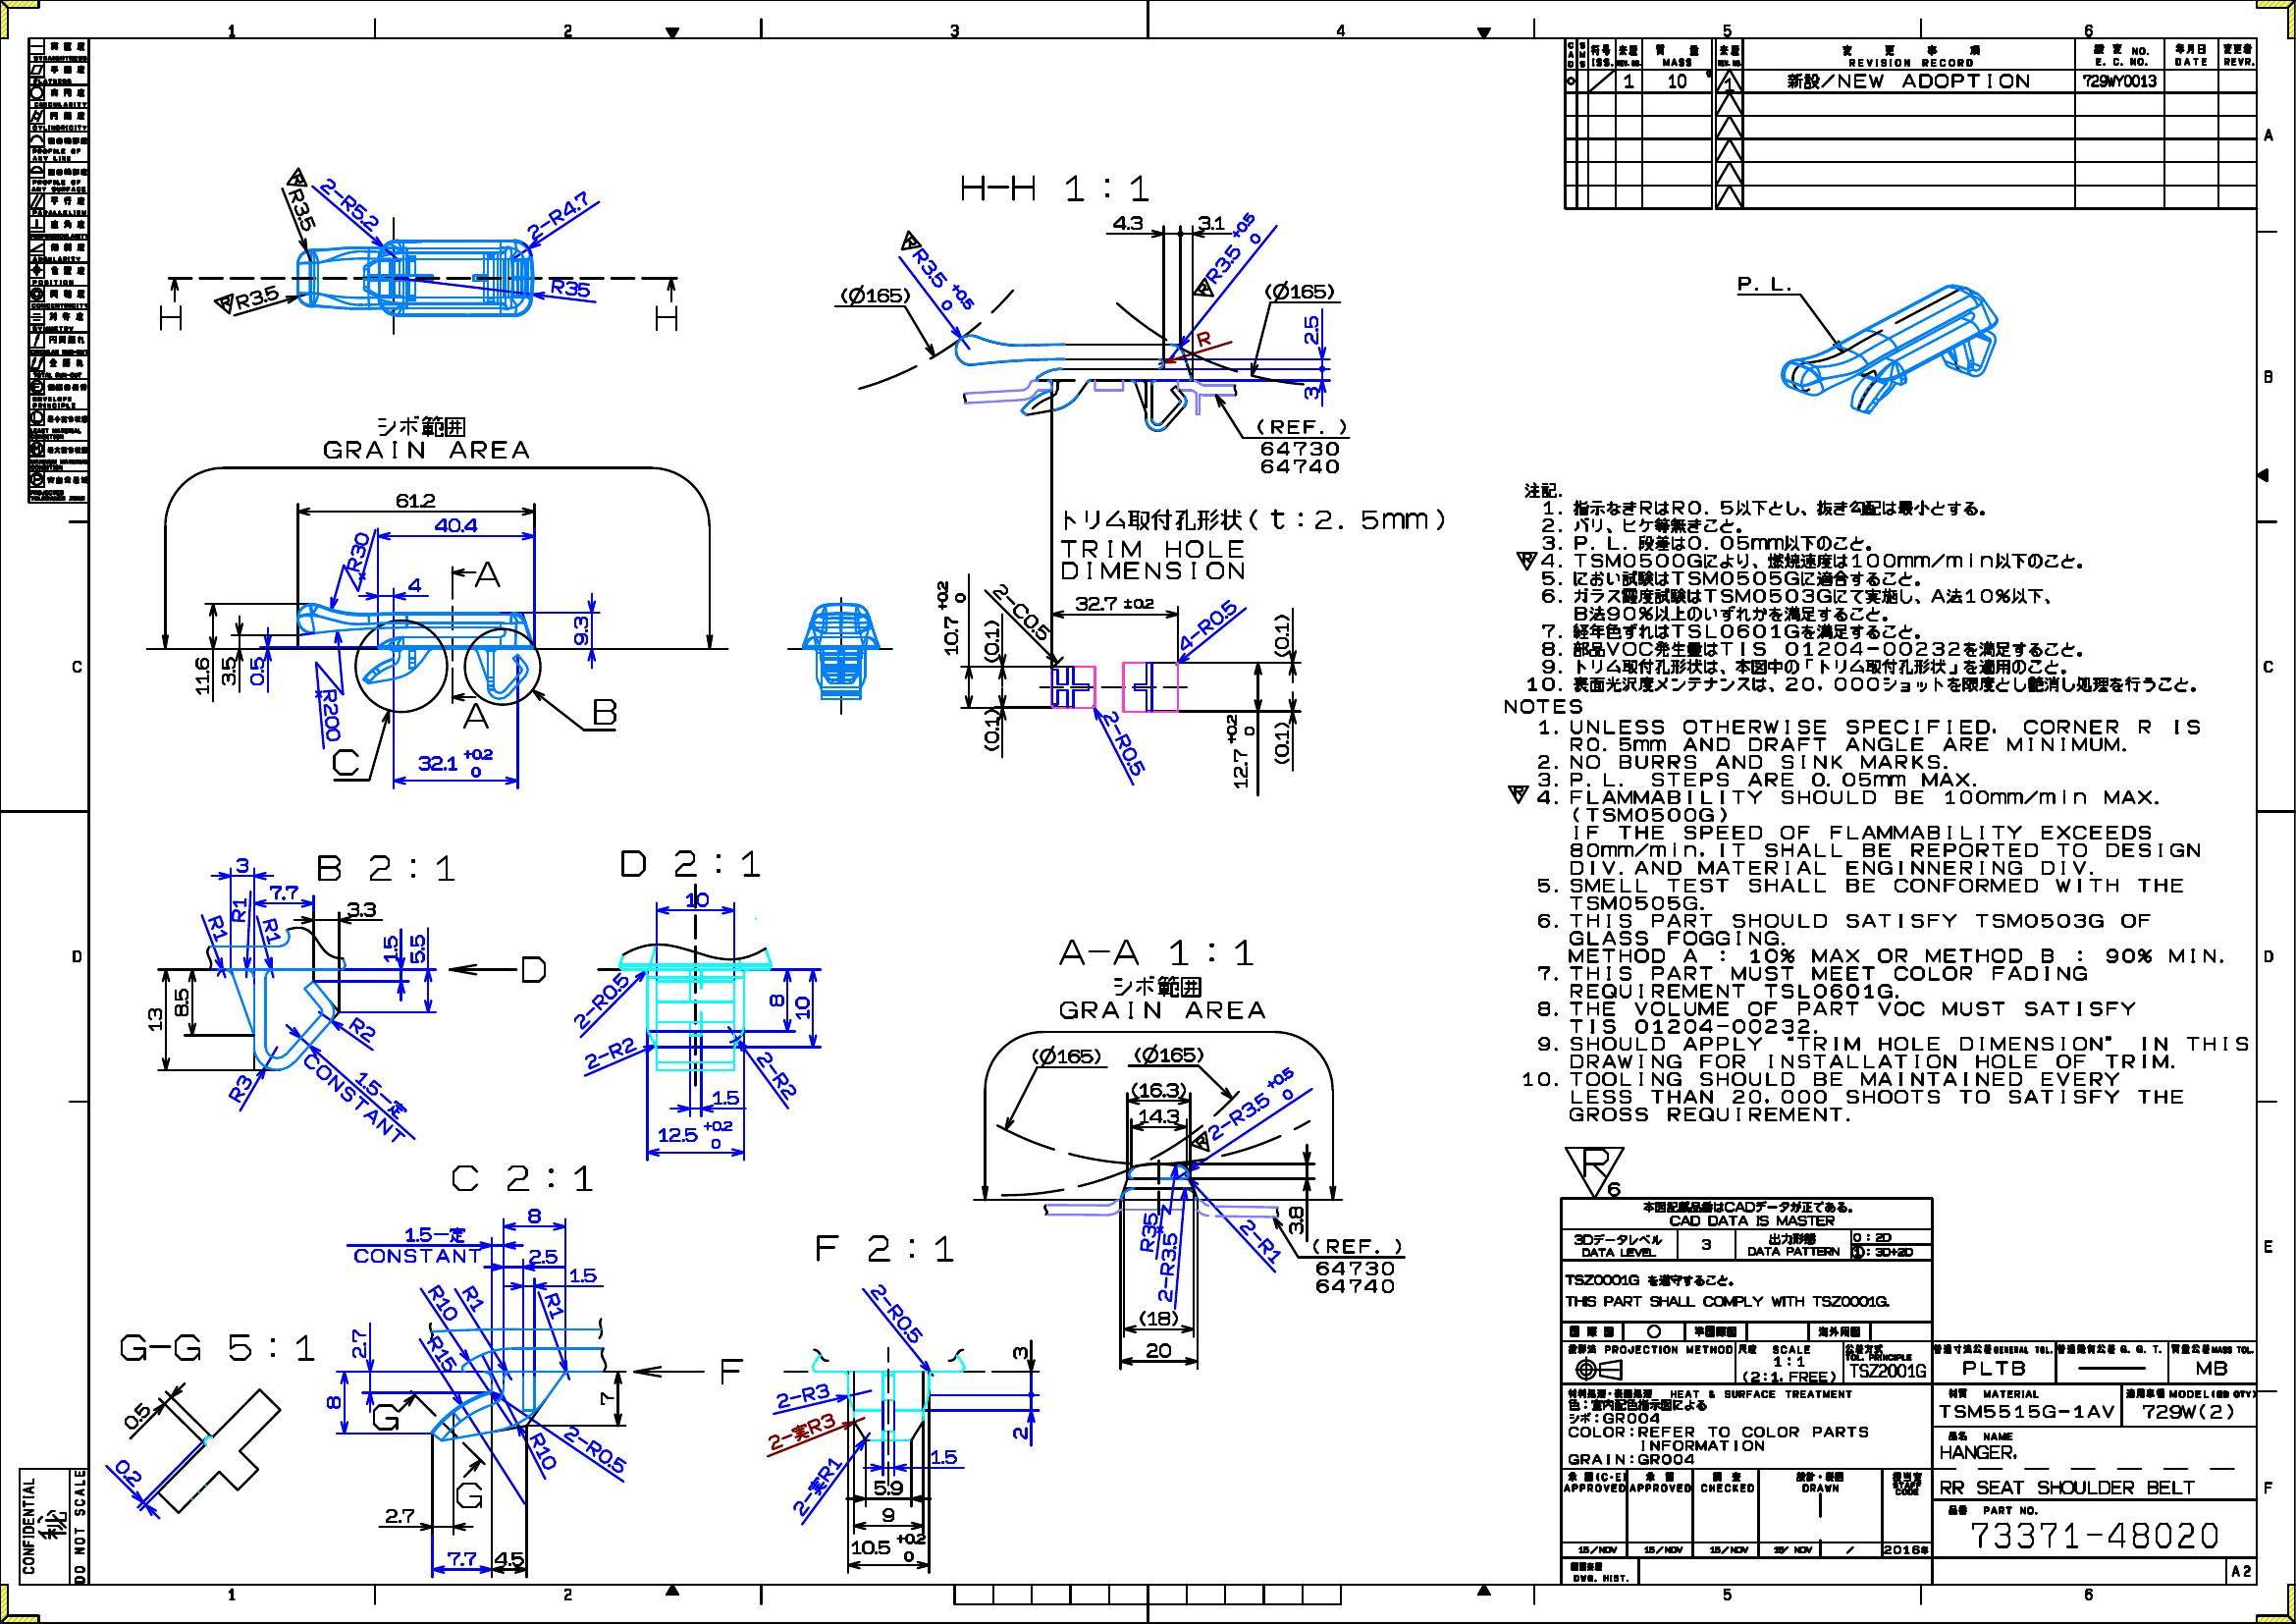anntotation_text: (1504, 480, 2249, 1123), (1059, 506, 1446, 582), (1058, 939, 1267, 1019), (321, 415, 531, 459), (119, 1334, 314, 1362), (961, 174, 1149, 202), (1256, 417, 1346, 475), (316, 852, 455, 882), (620, 849, 761, 877), (815, 1234, 954, 1262), (451, 1165, 594, 1192), (1563, 1146, 1625, 1197), (1314, 1260, 1393, 1294), (290, 1091, 416, 1107), (353, 1248, 481, 1262), (1312, 1237, 1400, 1253), (1737, 274, 1790, 292), (462, 701, 488, 729), (372, 1403, 399, 1431), (474, 561, 501, 587), (332, 749, 358, 775), (455, 1482, 481, 1508), (522, 956, 546, 982), (720, 1359, 745, 1385), (655, 304, 678, 330), (594, 698, 617, 724), (160, 304, 181, 330), (1189, 1130, 1210, 1151), (1198, 330, 1212, 346)
dimension_text: (882, 258, 987, 288), (1173, 244, 1279, 274), (1200, 1091, 1305, 1120), (1224, 714, 1256, 789), (936, 580, 966, 656), (657, 1120, 733, 1149), (416, 749, 494, 777), (850, 1534, 924, 1562), (840, 283, 910, 306), (1265, 279, 1333, 302), (1031, 1044, 1100, 1067), (269, 188, 336, 211), (1133, 1042, 1205, 1063), (214, 288, 279, 309), (1087, 735, 1159, 752), (522, 206, 594, 223), (314, 195, 385, 213), (566, 991, 636, 1009), (766, 1422, 836, 1439), (1158, 1232, 1175, 1302), (984, 605, 1058, 620), (1075, 596, 1154, 610), (1172, 617, 1242, 633), (560, 1441, 631, 1457), (782, 1478, 850, 1494), (350, 1086, 413, 1102), (404, 1227, 466, 1243), (863, 1306, 931, 1320), (583, 1044, 638, 1062), (1131, 1081, 1186, 1098), (1235, 1232, 1288, 1250), (750, 1067, 805, 1083), (775, 1387, 829, 1403), (323, 689, 339, 742), (982, 708, 1000, 750), (432, 517, 478, 533), (1274, 613, 1289, 657), (984, 620, 1000, 663), (1274, 722, 1289, 765), (1140, 1211, 1156, 1253), (1138, 1309, 1180, 1325), (350, 531, 365, 573), (423, 1295, 464, 1311), (422, 1346, 462, 1362), (550, 279, 590, 295), (395, 492, 436, 508), (523, 1443, 562, 1459), (1138, 1109, 1179, 1123), (1288, 1204, 1305, 1236), (195, 657, 209, 696), (1112, 214, 1144, 230), (112, 1464, 144, 1480), (409, 933, 425, 965), (573, 615, 588, 645), (225, 1081, 255, 1097), (121, 1408, 151, 1424), (494, 1552, 523, 1568), (873, 1480, 903, 1496), (346, 902, 376, 917), (269, 884, 299, 900), (569, 1267, 597, 1283), (541, 1299, 569, 1315), (172, 988, 188, 1016), (1303, 315, 1318, 344), (221, 656, 235, 685), (249, 656, 264, 685), (348, 1023, 378, 1037), (351, 1329, 365, 1359), (385, 1508, 415, 1522), (446, 1552, 476, 1566), (1198, 214, 1224, 230), (1145, 1343, 1172, 1359), (204, 919, 230, 935), (711, 1090, 740, 1104), (529, 1250, 557, 1264), (460, 1292, 488, 1306), (794, 995, 810, 1019), (260, 923, 285, 939), (227, 902, 251, 917), (931, 1450, 957, 1464), (383, 935, 397, 961), (685, 891, 708, 907), (148, 1007, 162, 1032), (408, 576, 422, 592), (527, 1207, 541, 1223), (1012, 1425, 1028, 1439), (769, 993, 783, 1007), (327, 1396, 341, 1410), (599, 1392, 615, 1404), (1012, 1346, 1028, 1359), (235, 858, 248, 874), (1303, 387, 1318, 399), (882, 1508, 894, 1522)
object: (1780, 283, 1999, 415), (954, 334, 1238, 432), (295, 601, 536, 700), (429, 1327, 604, 1443), (206, 926, 346, 1070), (618, 942, 773, 1072), (295, 239, 534, 318), (156, 1387, 283, 1513), (810, 1352, 964, 1443), (1042, 1162, 1279, 1218), (787, 596, 892, 715), (1031, 659, 1184, 714)
title_block: (1560, 1199, 2257, 1585), (1565, 39, 2256, 209), (28, 37, 88, 503), (19, 1469, 88, 1584)
